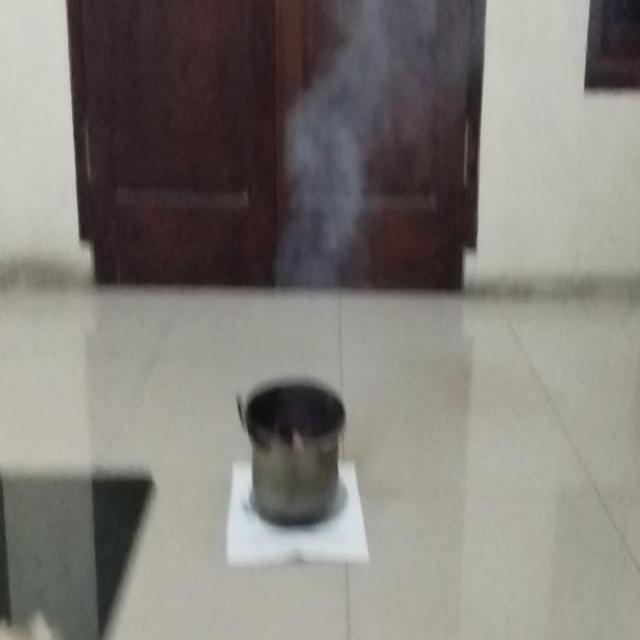fire: (279, 70, 372, 310), (346, 0, 476, 141)
